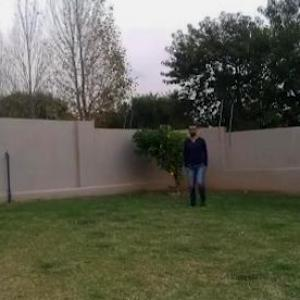follow: (186, 124, 206, 208)
